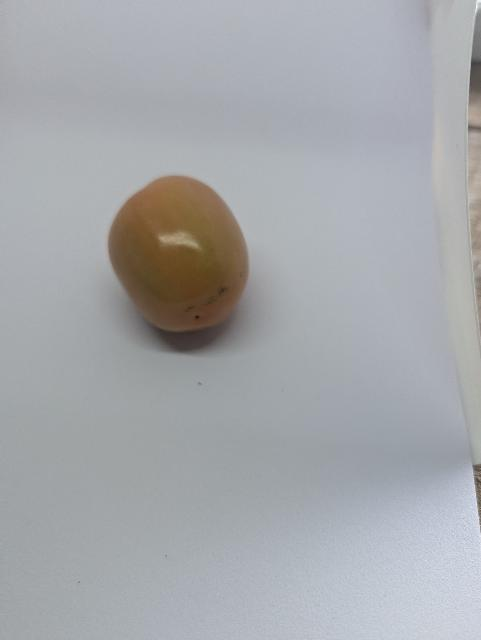turning: (100, 168, 266, 341)
